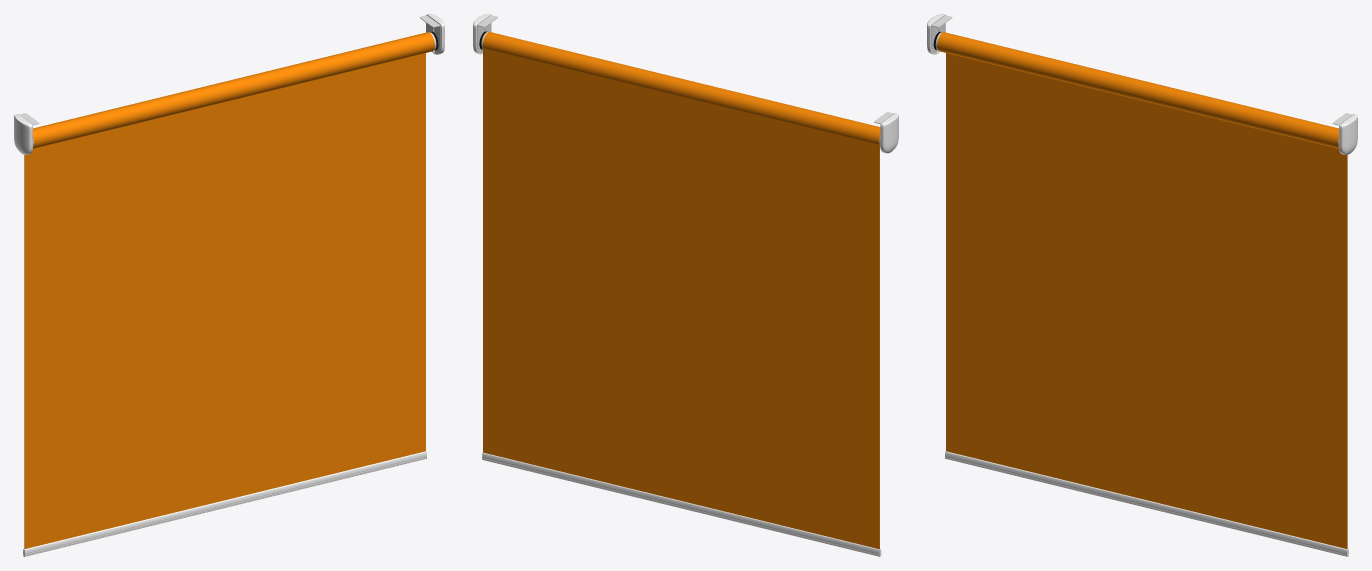
The model's file is Standardrollo (optional mit Kassette).glb.
The picture shows the model from 3 angles, left to right: view 1: azimuth 30°, elevation 25°; view 2: azimuth 150°, elevation 25°; view 3: azimuth 330°, elevation 25°; orthographic projection.
Visible parts, largest first — view 1: Stoff.001, Stoffende.001, Cube.003, Cube.006; view 2: Stoff.001, Stoffende.001, Cube.003, Cube.006; view 3: Stoff.001, Stoffende.001, Cube.003, Cube.001.
Boxes of the visible parts, x1,y1,x2,y2 form: Stoff.001: (24, 53, 425, 548); Stoffende.001: (33, 32, 434, 148); Cube.003: (25, 451, 426, 556); Cube.006: (14, 114, 32, 154); Stoff.001: (483, 48, 879, 549); Stoffende.001: (483, 32, 880, 146); Cube.003: (482, 452, 879, 556); Cube.006: (880, 113, 898, 153); Stoff.001: (946, 53, 1347, 548); Stoffende.001: (937, 32, 1338, 148); Cube.003: (945, 451, 1346, 556); Cube.001: (1339, 114, 1357, 154).
Size of the model in its own units: 0.9999 by 0.9998 by 0.0637.
Materials: 7 (1 with a texture image).
